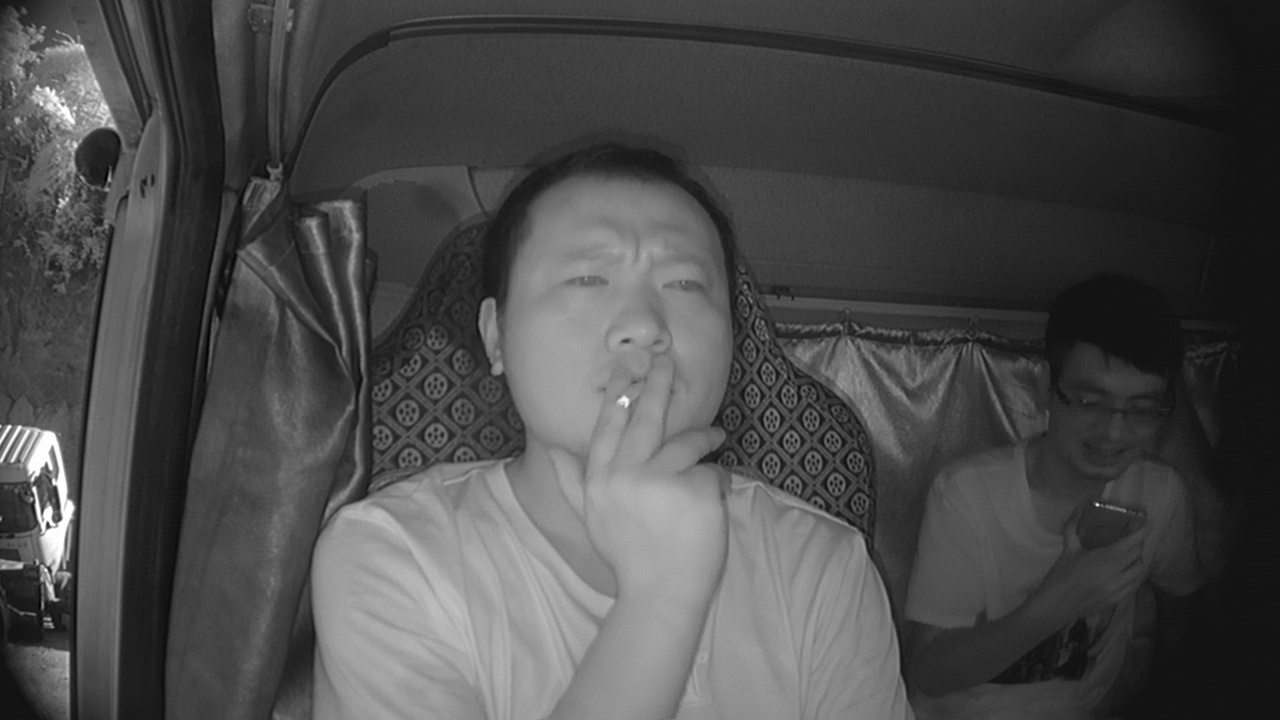hand: (568, 363, 727, 541)
